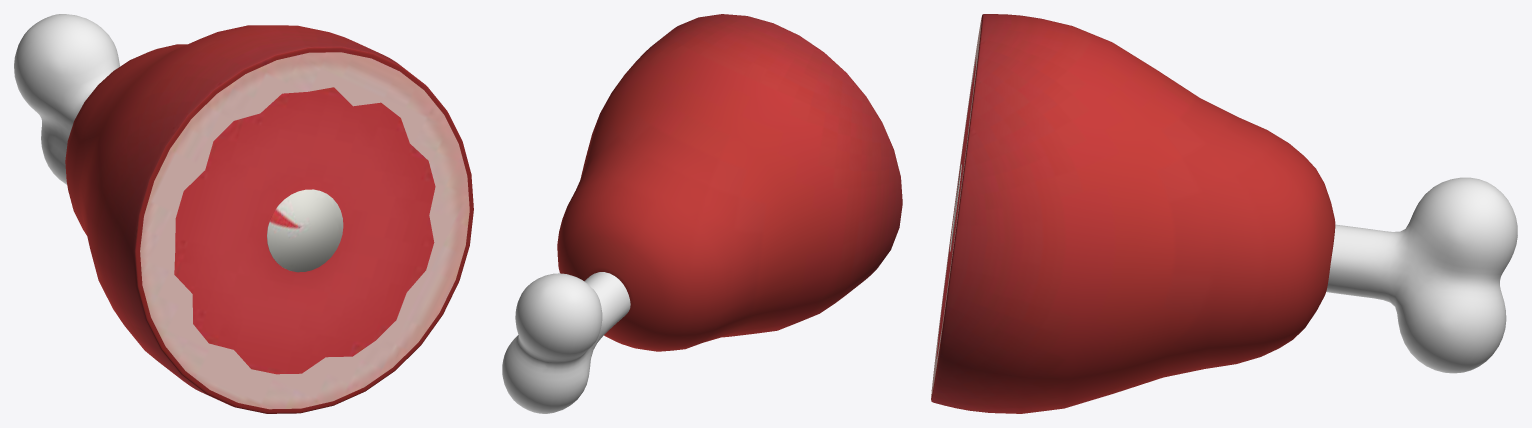
The model's file is meat 2.fbx.
The picture shows the model from 3 angles, left to right: view 1: azimuth 30°, elevation 25°; view 2: azimuth 150°, elevation 25°; view 3: azimuth 270°, elevation 25°; orthographic projection. The views are drawn at different scales.
Parts seen in each view (by area): view 1: Parma.Ham.009; view 2: Parma.Ham.009; view 3: Parma.Ham.009.
Part boxes in pixels (<box>): Parma.Ham.009: <box>14,14,473,413</box>; Parma.Ham.009: <box>502,14,902,413</box>; Parma.Ham.009: <box>931,14,1517,413</box>.
Size of the model in its own units: 14.88 by 15.09 by 22.24.
1 material, 1 textured.
